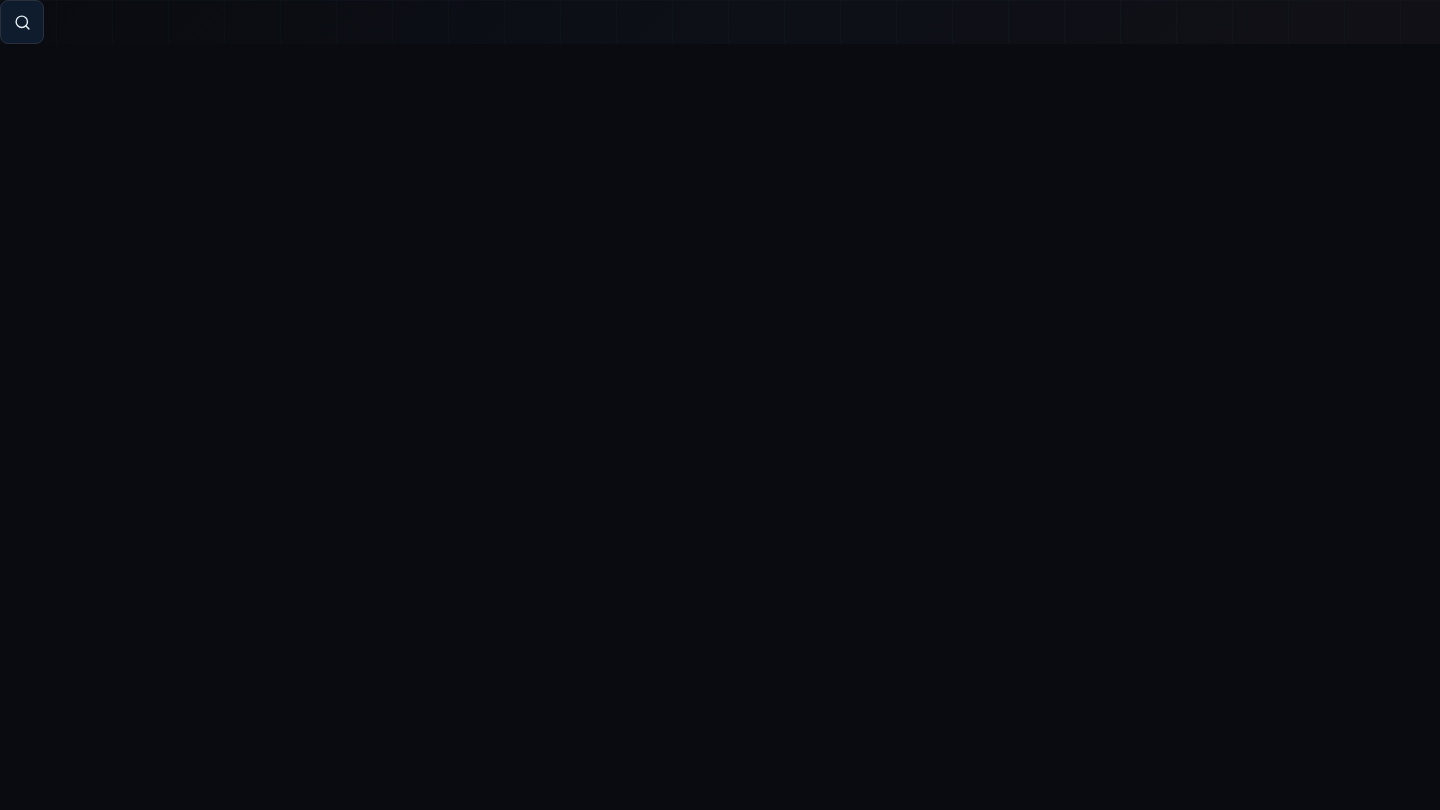
Test: CommandPalette › supports keyboard search and enter navigation
Type keys "{Control>}k{/Control}"
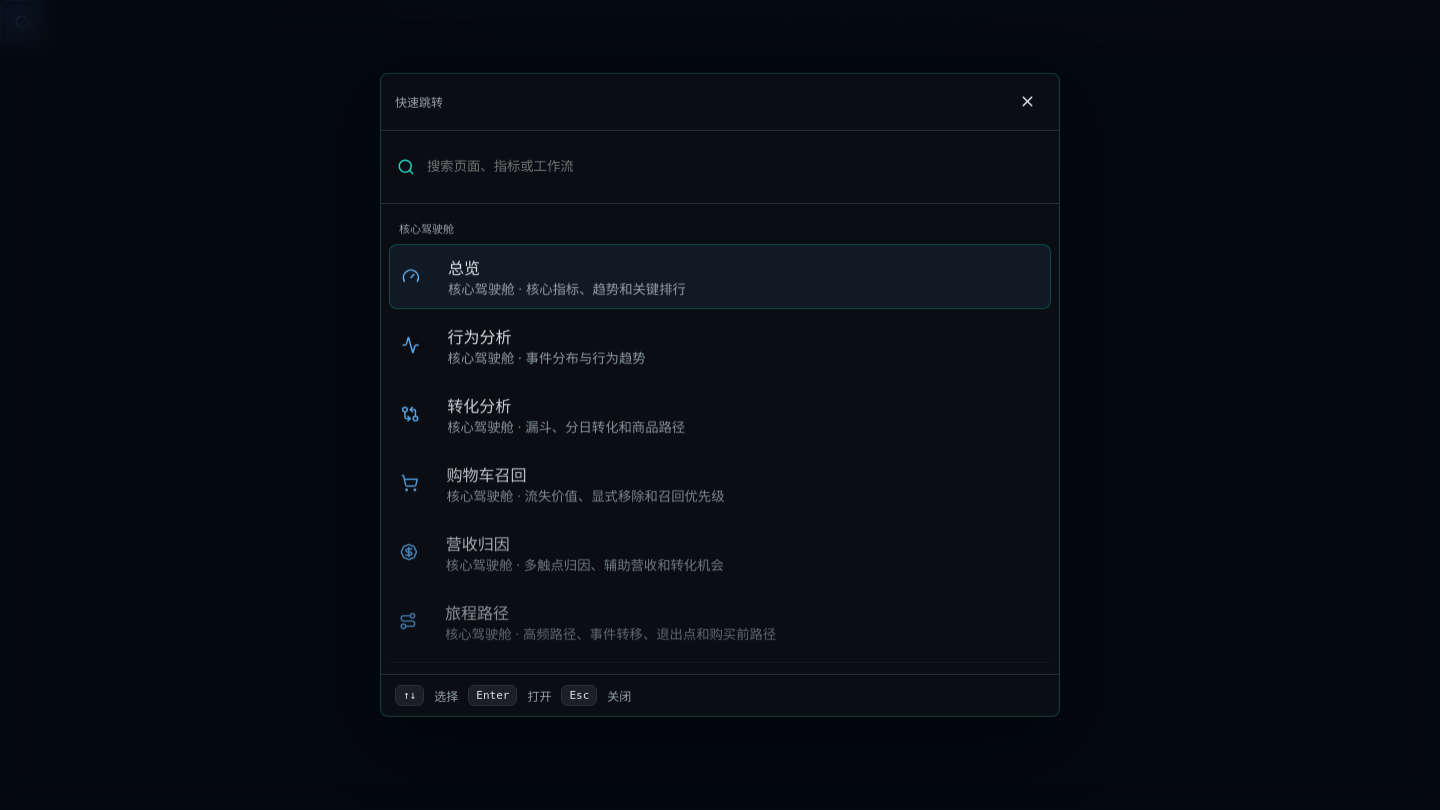
In the dropdown labelled "搜索页面、指标或工作流": point(734, 167) [425,147,1043,187], type "特征"
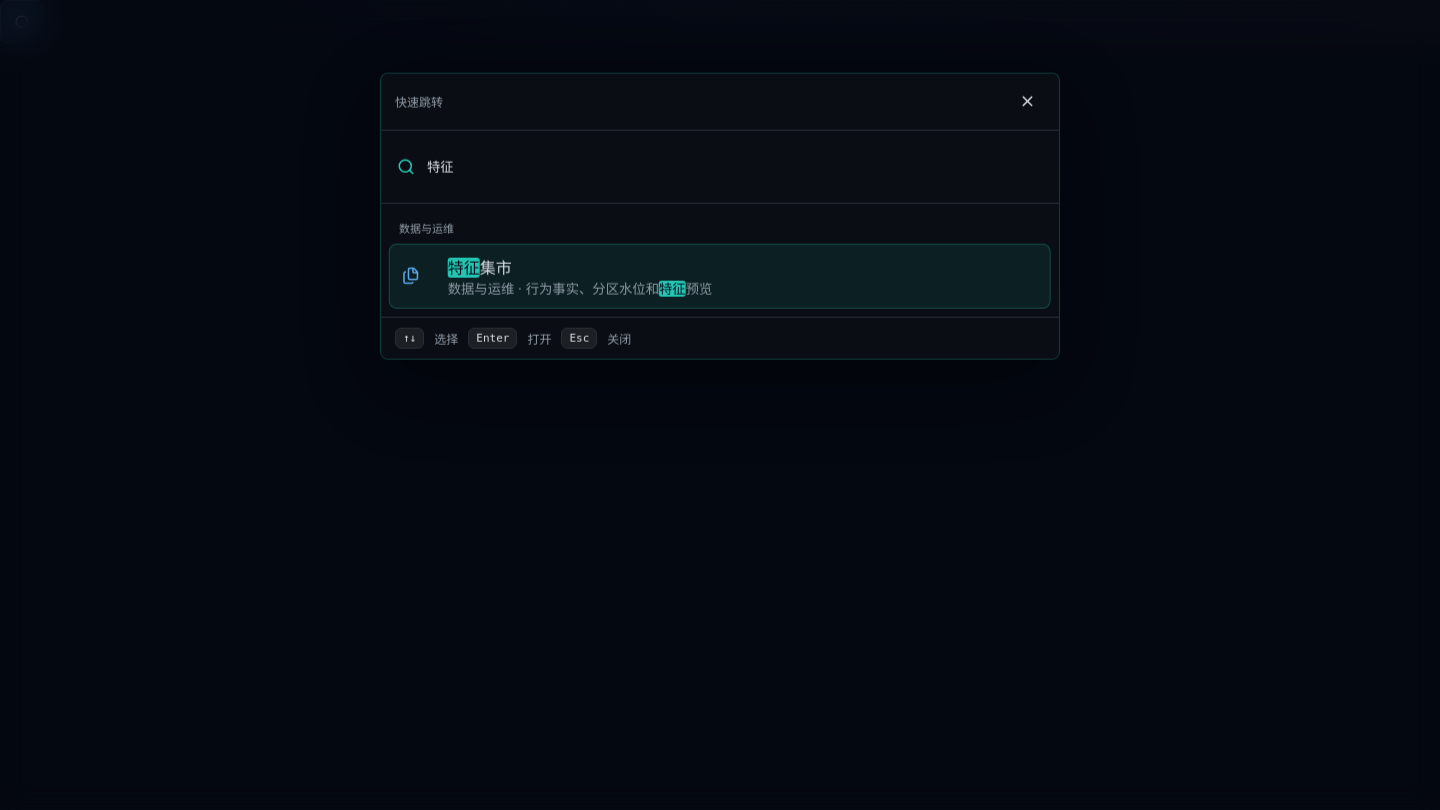
Press Enter
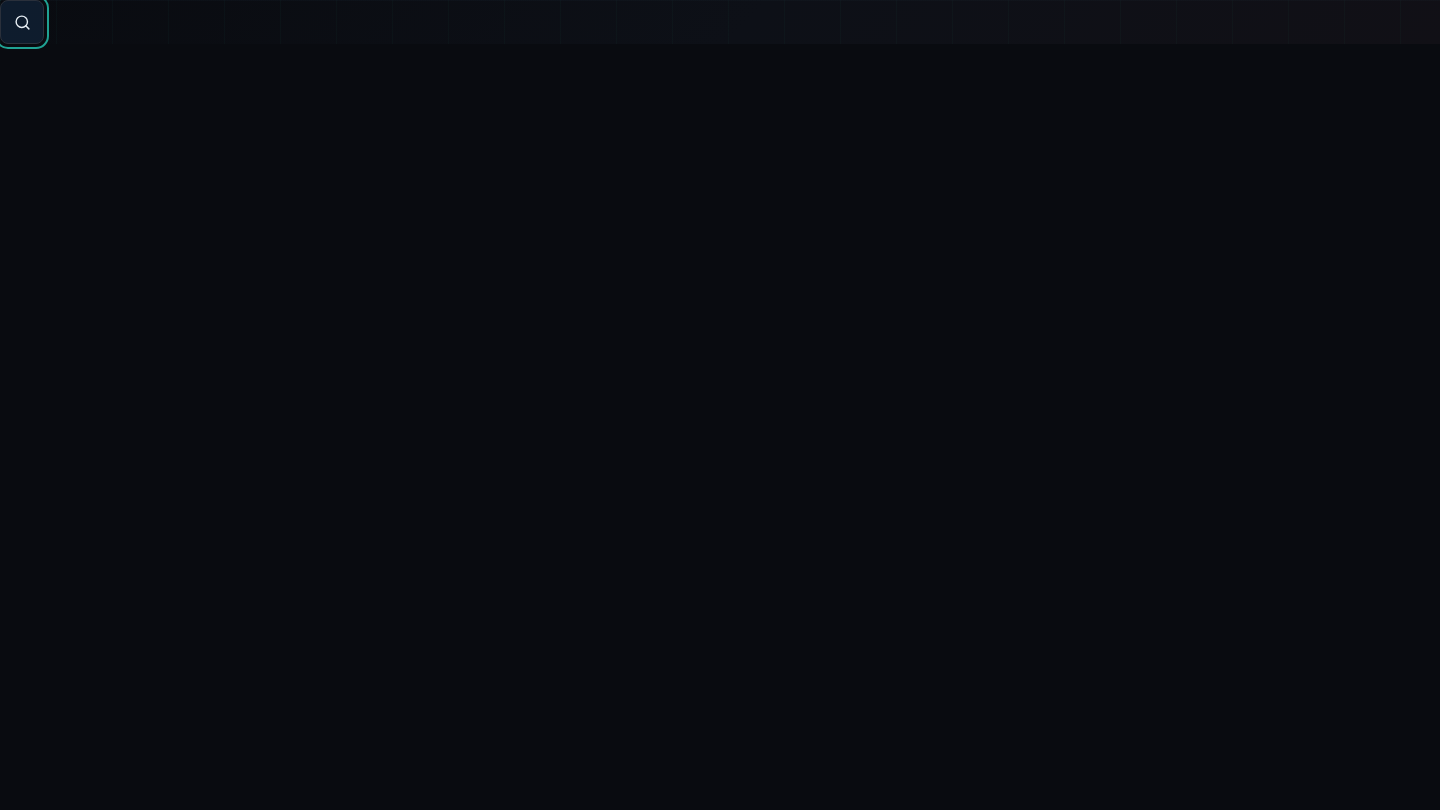
Result: the dialog is gone
